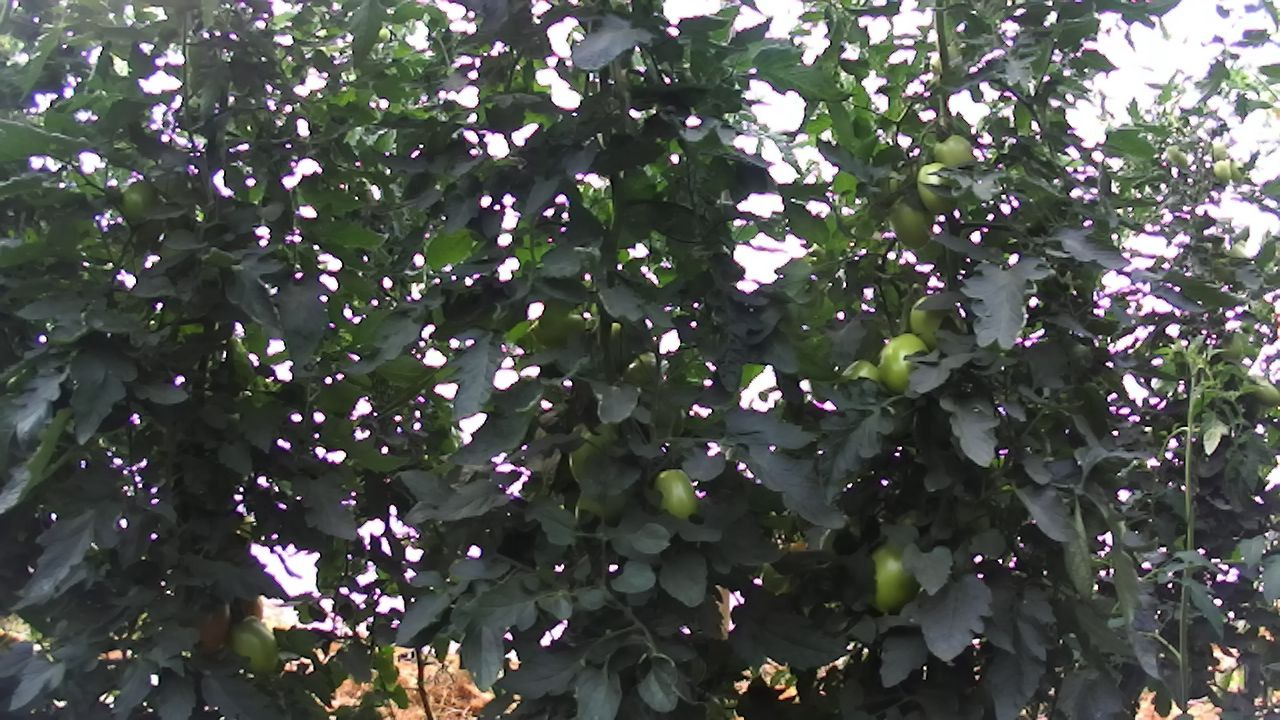tomato: (864, 540, 927, 617), (870, 325, 933, 398), (647, 462, 703, 526), (230, 614, 281, 680), (884, 189, 933, 253), (912, 159, 960, 219), (118, 174, 160, 219)
